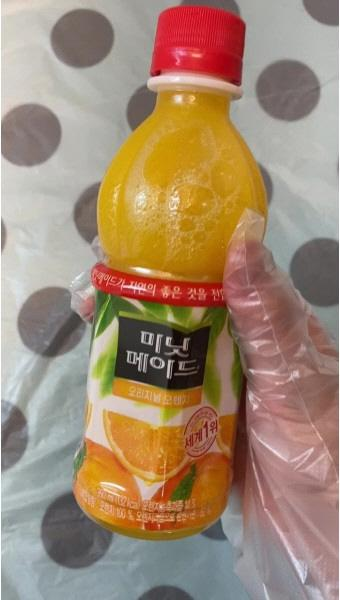minutemaid_org_orange: (85, 0, 277, 562)
